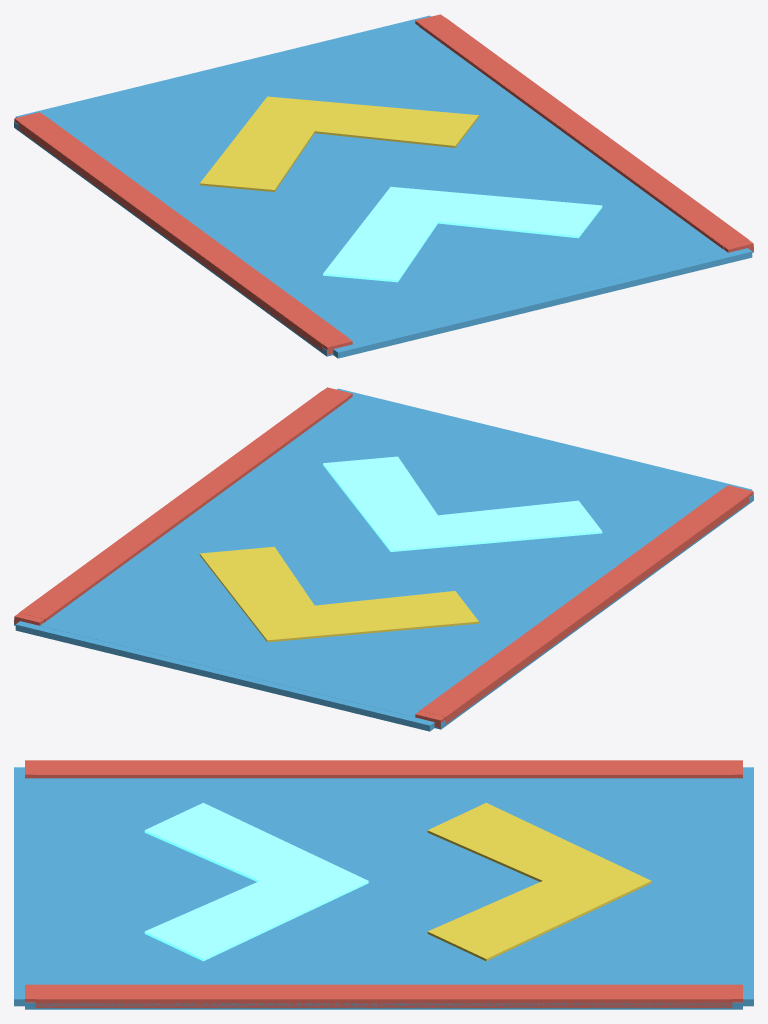
Rendered from prop_carnival_booster_pad.glb.
3 renders of one model, top to bottom at view 1: azimuth 30°, elevation 25°; view 2: azimuth 150°, elevation 25°; view 3: azimuth 270°, elevation 25°, orthographic. The views are drawn at different scales.
Visible parts, largest first — view 1: Mesh_Booster_Pad; view 2: Mesh_Booster_Pad; view 3: Mesh_Booster_Pad.
Boxes of the visible parts, box(x1,y1,x2,y2) form: Mesh_Booster_Pad: box(14, 14, 753, 358); Mesh_Booster_Pad: box(14, 387, 753, 731); Mesh_Booster_Pad: box(14, 760, 753, 1009).
Size of what is drawn, in the model's own units: 2.6 by 0.0545 by 3.4.
